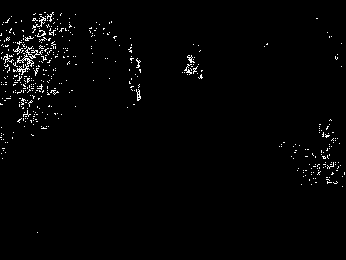person: (127, 55, 143, 103)
